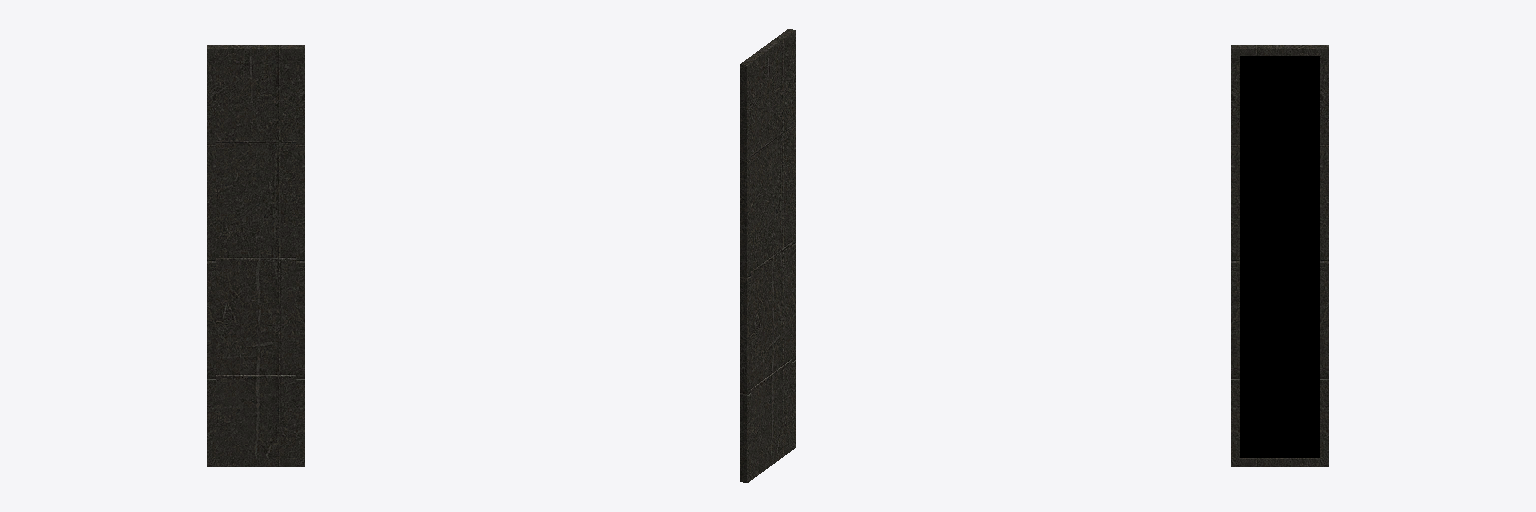
3 views of the same model, side by side, from view 1: azimuth 90°, elevation 25°; view 2: azimuth 150°, elevation 25°; view 3: azimuth 270°, elevation 25° (orthographic).
Parts seen in each view (by area): view 1: 3, 2, 5, 6, 4; view 2: 3, 2, 5, 6; view 3: 3, 2, 5, 6, 4.
Part boxes in pixels (x1,y1,x2,y2): 3: (216, 56, 295, 458); 2: (207, 45, 215, 466); 5: (296, 45, 304, 466); 6: (216, 45, 295, 55); 4: (216, 459, 295, 466); 3: (751, 41, 791, 472); 2: (740, 61, 750, 482); 5: (785, 29, 795, 449); 6: (745, 32, 791, 69); 3: (1240, 56, 1319, 457); 2: (1320, 45, 1328, 466); 5: (1231, 45, 1239, 466); 6: (1240, 45, 1319, 55); 4: (1240, 458, 1319, 466).
Bounding box in the file's own units: 2 × 114 × 24.
2 materials, 2 textured.